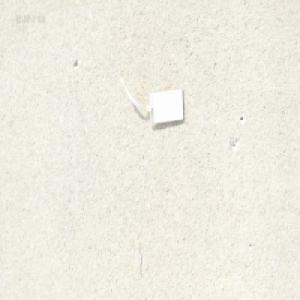LuggageTag: (116, 69, 185, 127)
